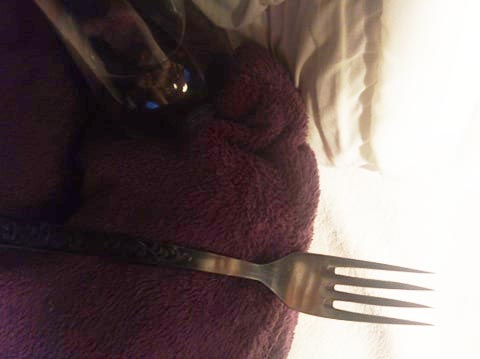Widelec: (259, 249, 434, 331)
